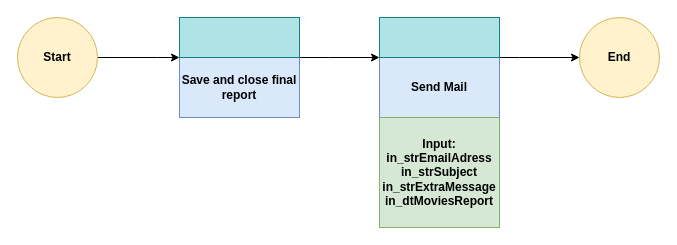
Some shapes in this 677 by 245 pixel diagram are drawn without their labels. Each missing label, with the box of its shape:
Excel: (178, 16, 300, 58)
Mail: (378, 16, 500, 58)
